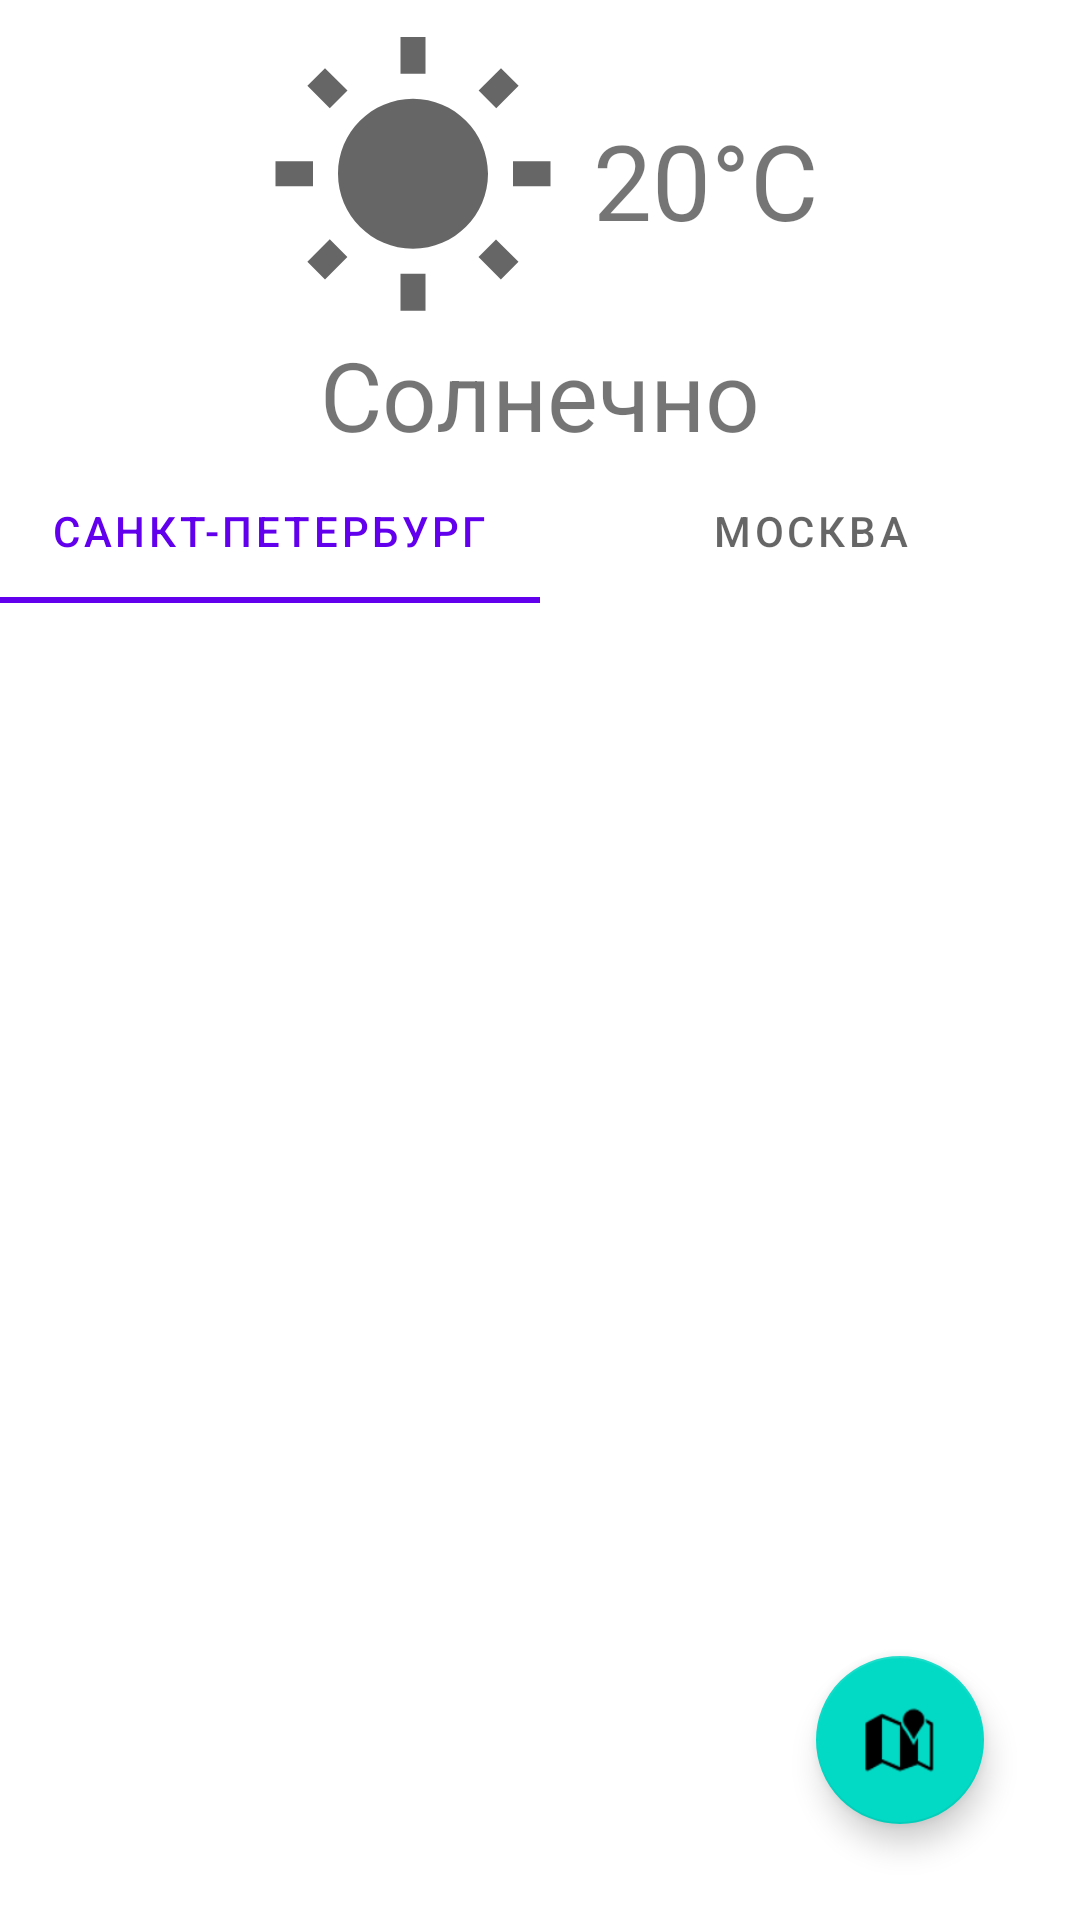

Locate icon controls on the screen. Image size 1080 × 1920, boxes as (x1, y1, x2, y2).
Floating Action Button: (816, 1656, 984, 1824)
Weather Icon: (275, 37, 551, 311)
